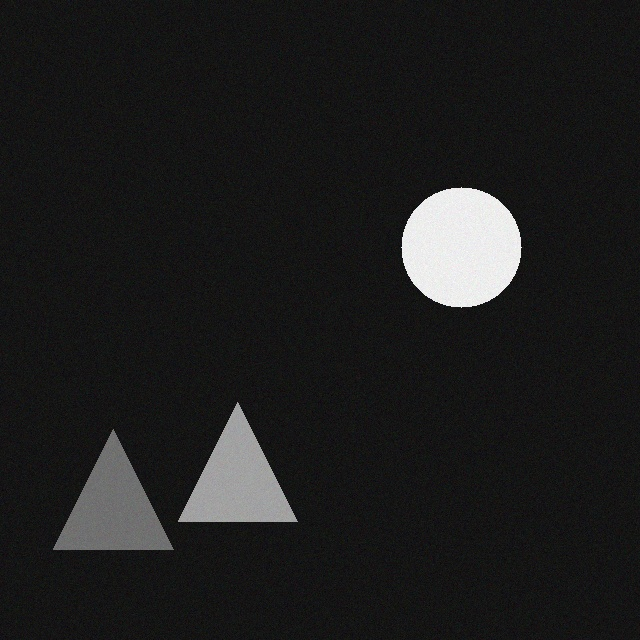circle: (400, 197, 520, 317)
triangle: (52, 439, 172, 559), (177, 412, 296, 531)
